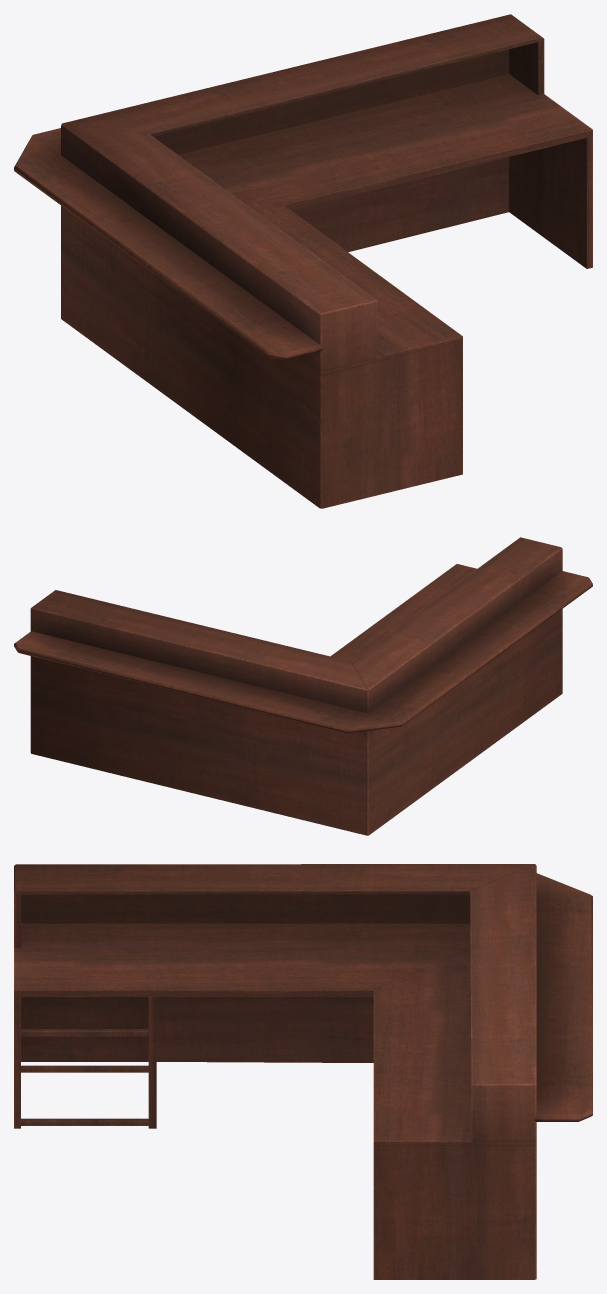
The model's file is desk_reception02.dae.
3 renders of one model, top to bottom at view 1: azimuth 30°, elevation 25°; view 2: azimuth 150°, elevation 25°; view 3: azimuth 270°, elevation 25°, orthographic. The views are drawn at different scales.
Parts seen in each view (by area): view 1: polySurface5; view 2: polySurface5; view 3: polySurface5.
Part boxes in pixels (x1,y1,x2,y2): polySurface5: [14, 14, 592, 508]; polySurface5: [14, 537, 592, 835]; polySurface5: [14, 864, 592, 1279].
Size of the model in its own units: 3.33 by 1.25 by 3.35.
